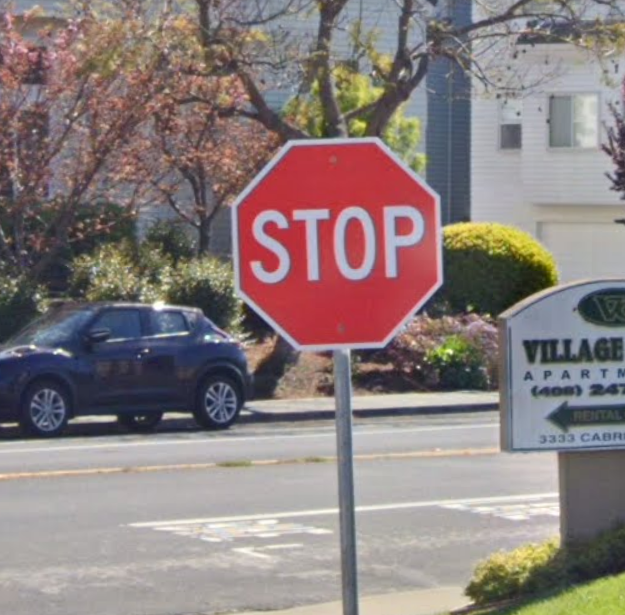stop_sign: (236, 139, 442, 348)
